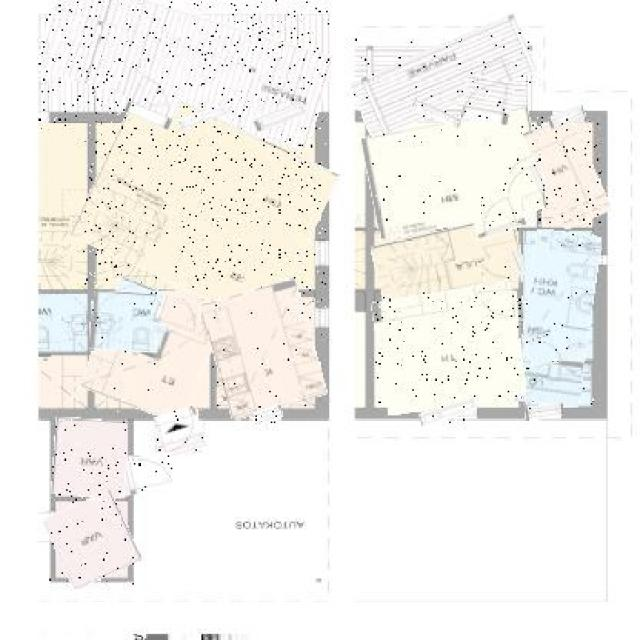door: (128, 72, 182, 126), (463, 77, 512, 123), (156, 410, 204, 456), (472, 197, 525, 237), (126, 456, 176, 492), (152, 296, 202, 332), (500, 168, 546, 202), (480, 252, 526, 283), (480, 290, 523, 322), (526, 334, 559, 366)
window: (420, 402, 478, 423), (254, 106, 306, 128), (411, 105, 462, 123), (180, 108, 229, 126), (549, 109, 586, 128), (525, 405, 563, 420), (255, 408, 283, 423)
zone: (83, 103, 326, 308), (37, 0, 329, 129), (366, 114, 543, 232), (376, 288, 522, 410), (352, 31, 534, 123), (90, 285, 216, 417), (208, 284, 322, 414), (520, 231, 597, 406), (372, 221, 523, 297), (532, 117, 602, 228), (50, 496, 136, 584), (52, 418, 128, 497), (92, 291, 157, 352)
